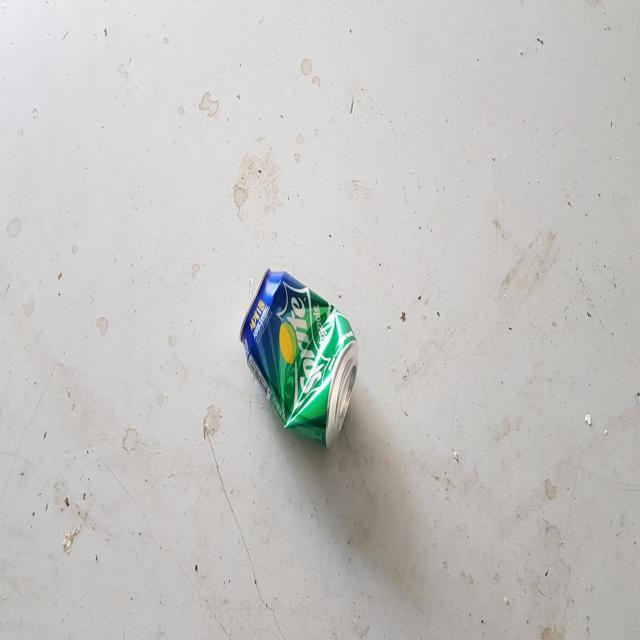can: (240, 268, 359, 447)
